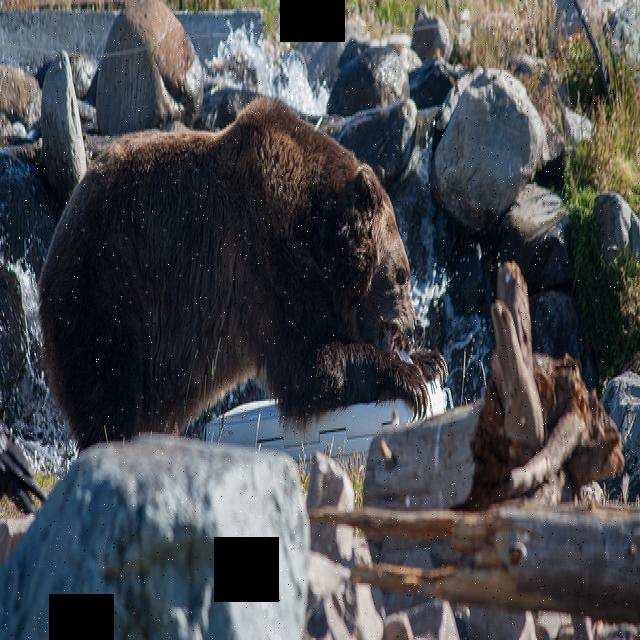Bear: (38, 99, 450, 447)
